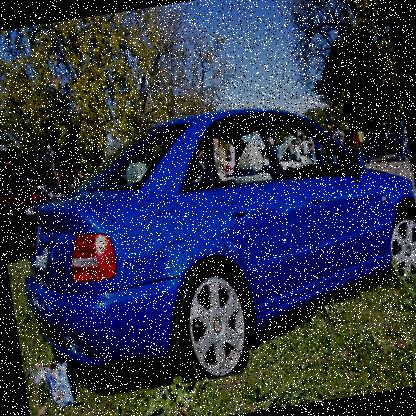Car: (0, 82, 415, 407), (0, 158, 46, 263), (264, 128, 302, 172), (50, 174, 74, 197)
